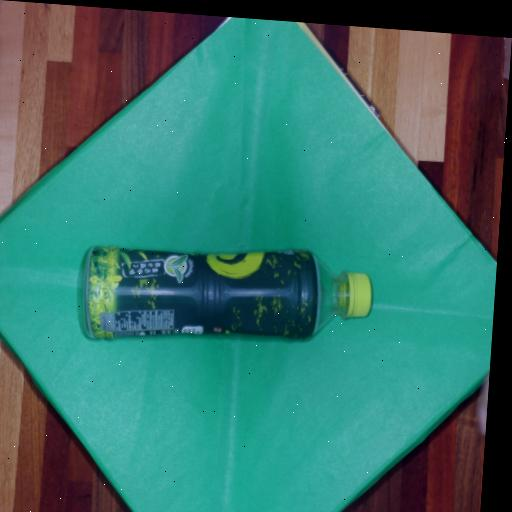bottle: (80, 233, 375, 364)
